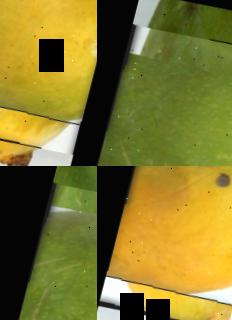PartiallyRipe: (0, 0, 97, 162)
Ripe: (97, 166, 232, 320)
Unripe: (97, 15, 232, 166), (0, 174, 97, 320)
